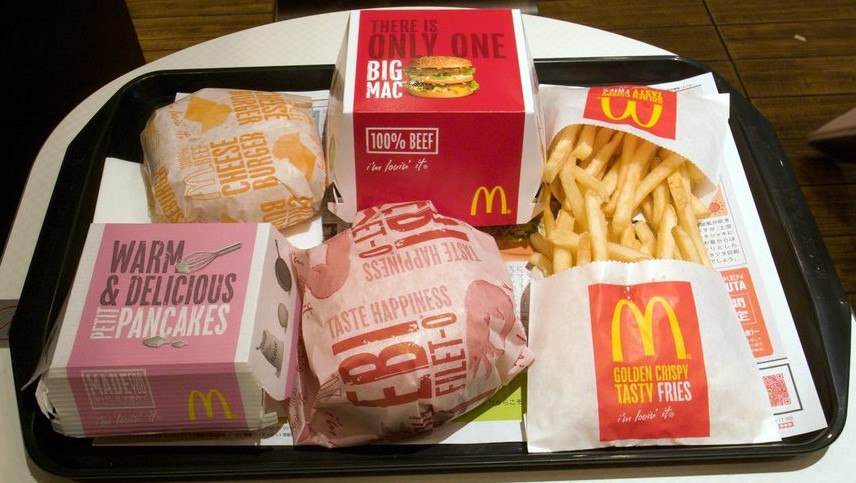burger: (287, 203, 542, 436), (64, 216, 298, 436), (327, 3, 548, 235), (135, 77, 325, 227)
fries: (503, 223, 793, 458), (534, 72, 738, 231)
